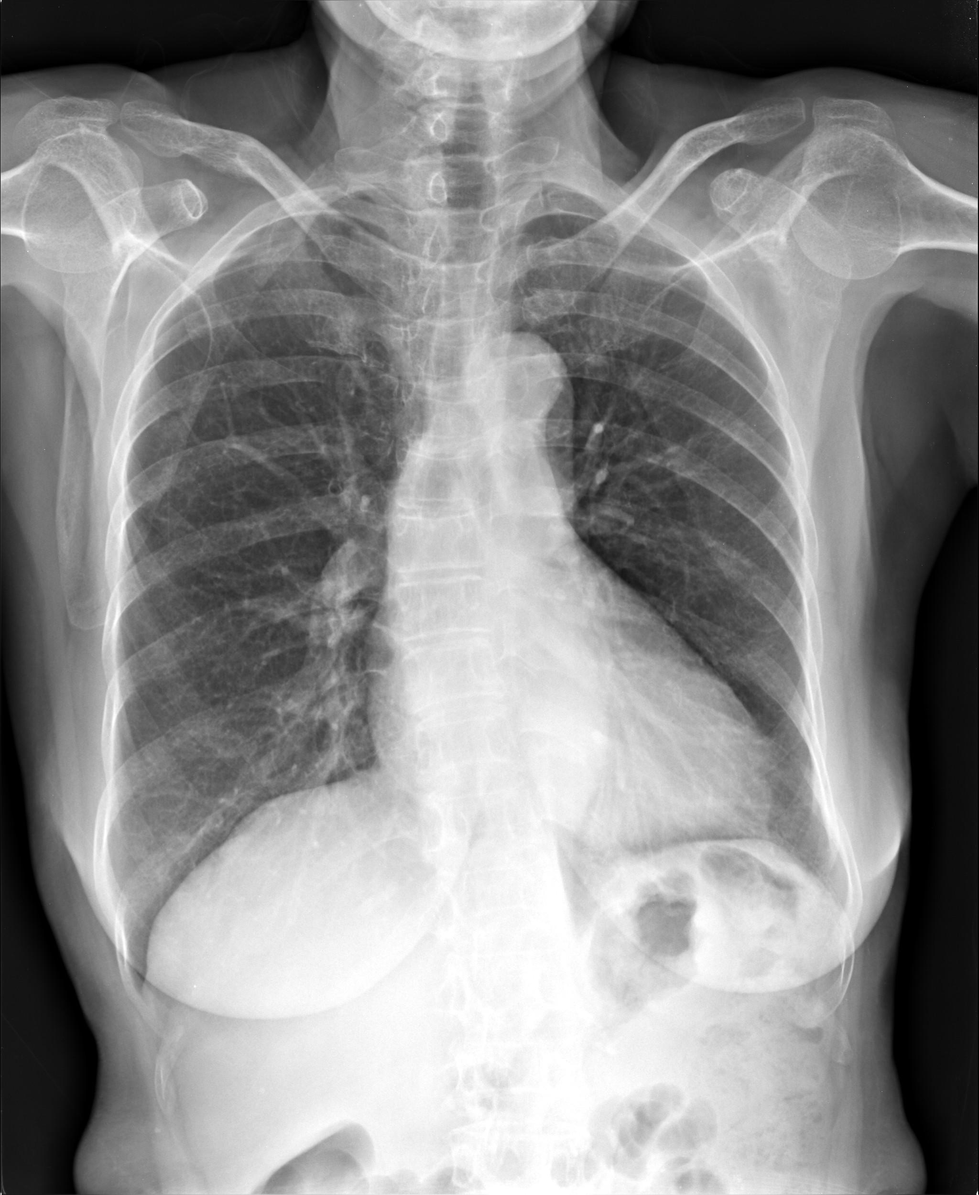Cardiomegaly: (360, 678, 770, 832)
Pleural thickening: (812, 843, 861, 933)
